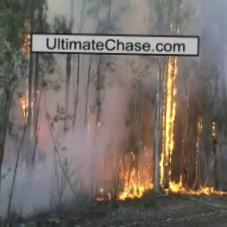fire: (160, 16, 214, 195), (113, 145, 153, 198), (17, 90, 37, 122)
